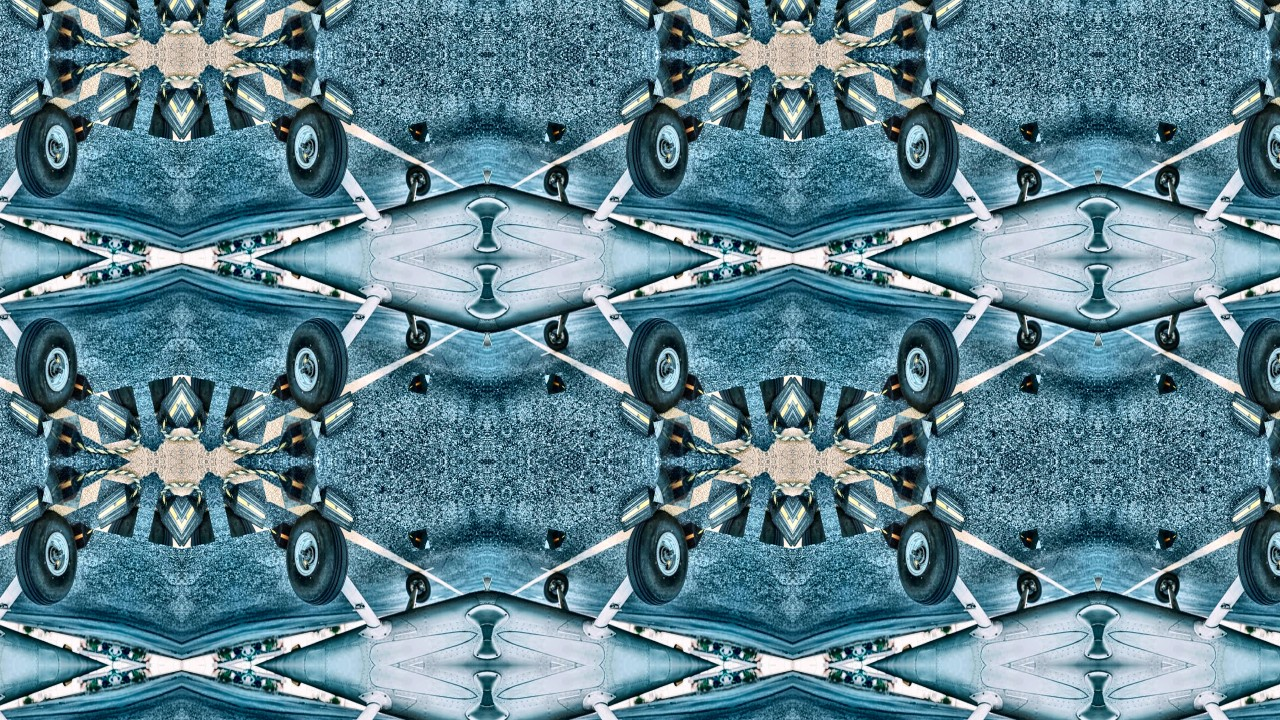chock: (2, 74, 54, 133), (90, 71, 142, 130), (308, 74, 360, 133), (220, 71, 272, 130), (614, 74, 666, 133), (702, 71, 754, 130), (920, 74, 972, 133), (832, 71, 884, 130), (1226, 74, 1278, 133), (2, 383, 54, 442), (90, 386, 142, 445), (308, 383, 360, 442), (220, 386, 272, 445), (614, 383, 666, 442), (702, 386, 754, 445), (920, 383, 972, 442), (832, 386, 884, 445), (1226, 383, 1278, 442), (2, 482, 54, 541), (90, 479, 142, 538), (308, 482, 360, 541), (220, 479, 272, 538), (614, 482, 666, 541), (702, 479, 754, 538), (920, 482, 972, 541), (832, 479, 884, 538), (1226, 482, 1278, 541), (41, 6, 86, 53), (276, 6, 321, 53), (653, 6, 698, 53), (888, 6, 933, 53), (41, 55, 86, 102), (276, 55, 321, 102), (653, 55, 698, 102), (888, 55, 933, 102), (41, 414, 86, 461), (276, 414, 321, 461), (653, 414, 698, 461), (888, 414, 933, 461), (41, 463, 86, 510), (276, 463, 321, 510), (653, 463, 698, 510), (888, 463, 933, 510), (148, 84, 181, 143), (181, 84, 214, 143), (760, 84, 793, 143), (793, 84, 826, 143), (148, 373, 181, 432), (181, 373, 214, 432), (760, 373, 793, 432), (793, 373, 826, 432), (148, 492, 181, 551), (181, 492, 214, 551), (760, 492, 793, 551), (793, 492, 826, 551), (90, 0, 142, 37), (220, 0, 272, 37), (702, 0, 754, 37), (832, 0, 884, 37), (2, 0, 54, 34), (308, 0, 360, 34), (614, 0, 666, 34), (920, 0, 972, 34), (1226, 0, 1278, 34), (60, 112, 94, 147), (268, 112, 302, 147), (672, 112, 706, 147), (880, 112, 914, 147), (60, 369, 94, 404), (268, 369, 302, 404), (672, 369, 706, 404), (880, 369, 914, 404), (60, 520, 94, 555), (268, 520, 302, 555), (672, 520, 706, 555), (880, 520, 914, 555), (148, 0, 181, 24), (181, 0, 214, 24), (760, 0, 793, 24), (793, 0, 826, 24), (1265, 6, 1280, 53), (1265, 55, 1280, 102), (1265, 414, 1280, 461), (1265, 463, 1280, 510), (407, 121, 430, 144), (544, 121, 567, 144), (1019, 121, 1042, 144), (1156, 121, 1179, 144), (407, 372, 430, 395), (544, 372, 567, 395), (1019, 372, 1042, 395), (1156, 372, 1179, 395), (407, 529, 430, 552), (544, 529, 567, 552), (1019, 529, 1042, 552), (1156, 529, 1179, 552)
wheel: (4, 97, 88, 204), (274, 97, 358, 204), (616, 97, 700, 204), (886, 97, 970, 204), (4, 312, 88, 419), (274, 312, 358, 419), (616, 312, 700, 419), (886, 312, 970, 419), (4, 505, 88, 612), (274, 505, 358, 612), (616, 505, 700, 612), (886, 505, 970, 612), (1228, 97, 1280, 204), (1228, 312, 1280, 419), (1228, 505, 1280, 612), (403, 162, 434, 199), (540, 162, 571, 199), (1015, 162, 1046, 199), (1152, 162, 1183, 199), (403, 317, 434, 354), (540, 317, 571, 354), (1015, 317, 1046, 354), (1152, 317, 1183, 354), (403, 570, 434, 607), (540, 570, 571, 607), (1015, 570, 1046, 607), (1152, 570, 1183, 607), (4, 0, 88, 11), (274, 0, 358, 11), (616, 0, 700, 11), (886, 0, 970, 11)
